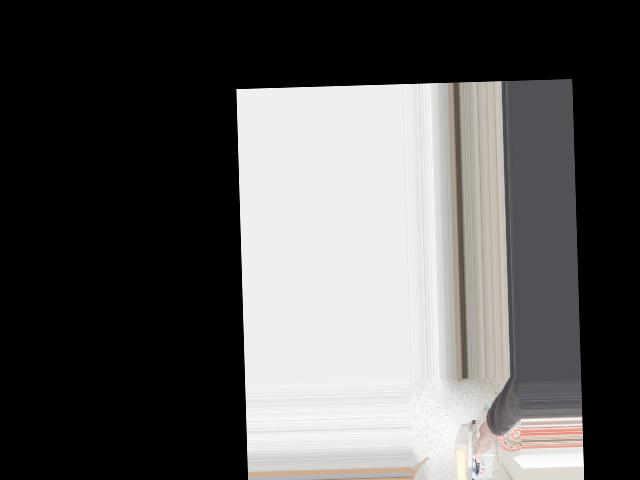cheese: (449, 415, 516, 480)
